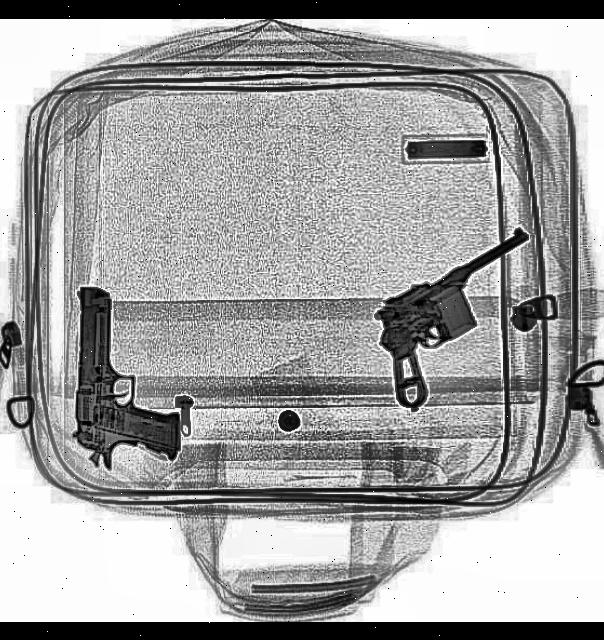Gun: (358, 224, 572, 412), (74, 282, 186, 470)
